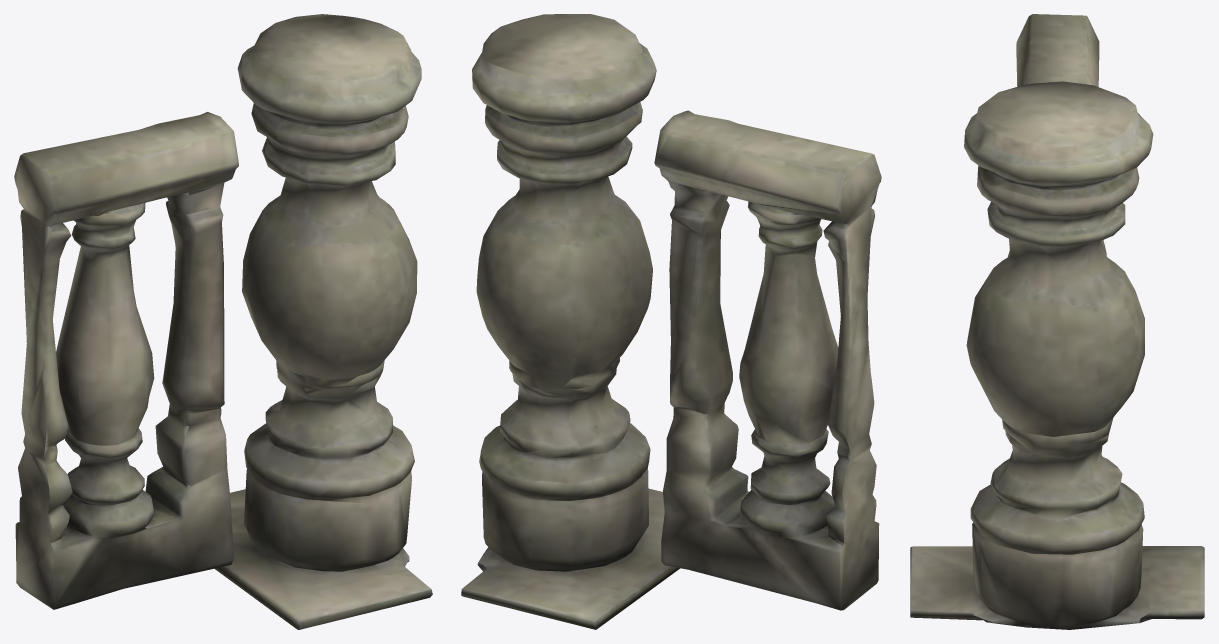
The model's file is sturdy-limestone-balustrade-v001.glb.
3 renders of one model, left to right at view 1: azimuth 30°, elevation 25°; view 2: azimuth 150°, elevation 25°; view 3: azimuth 270°, elevation 25°, orthographic.
Parts seen in each view (by area): view 1: sturdy-limestone-balustrade; view 2: sturdy-limestone-balustrade; view 3: sturdy-limestone-balustrade.
Boxes of the visible parts, <box> form: sturdy-limestone-balustrade: <box>14,14,432,629</box>; sturdy-limestone-balustrade: <box>461,14,881,629</box>; sturdy-limestone-balustrade: <box>910,14,1204,629</box>.
Size of the model in its own units: 0.8193 by 1.05 by 0.5641.
1 material, 1 textured.
